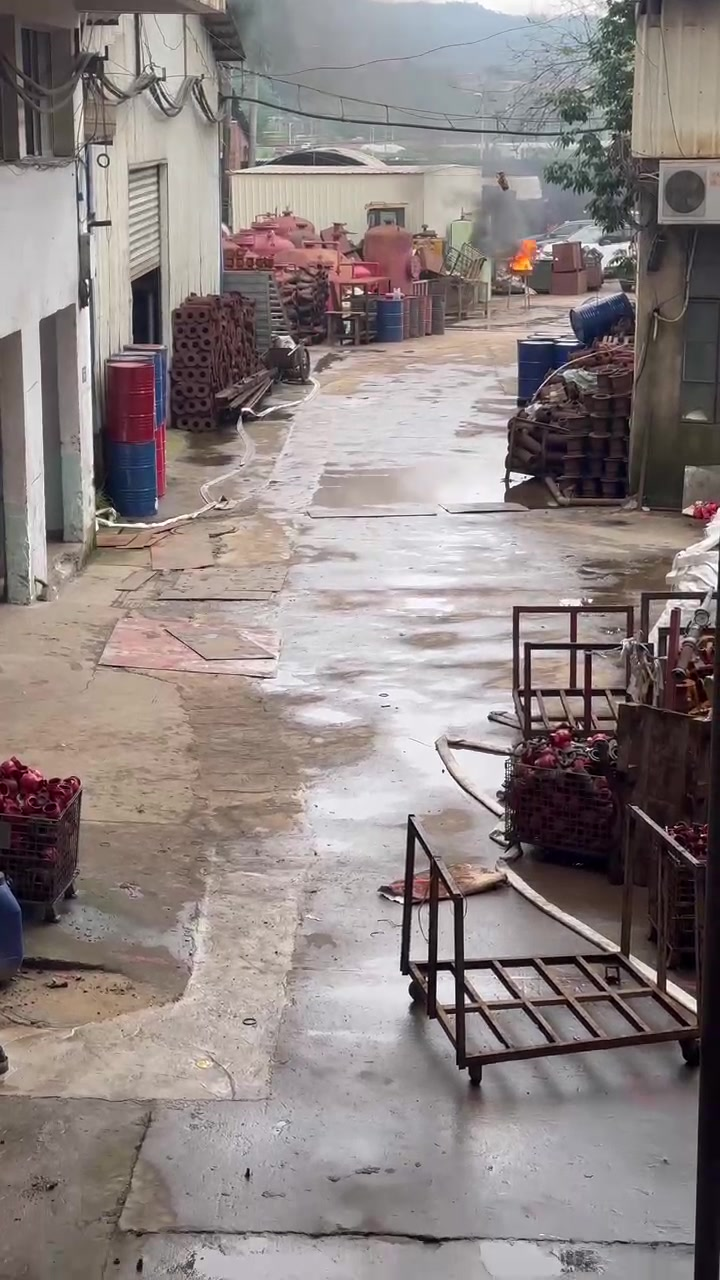fire: (509, 239, 535, 269)
